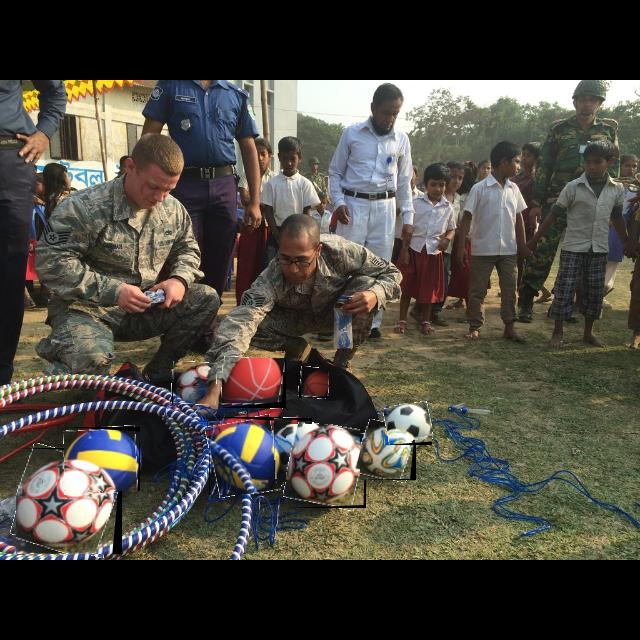Football: (16, 448, 122, 554), (286, 424, 366, 508), (209, 417, 281, 495), (64, 427, 140, 491), (360, 422, 416, 480), (222, 358, 286, 408), (274, 418, 312, 482), (384, 403, 432, 445), (172, 361, 216, 405), (299, 368, 329, 398)
